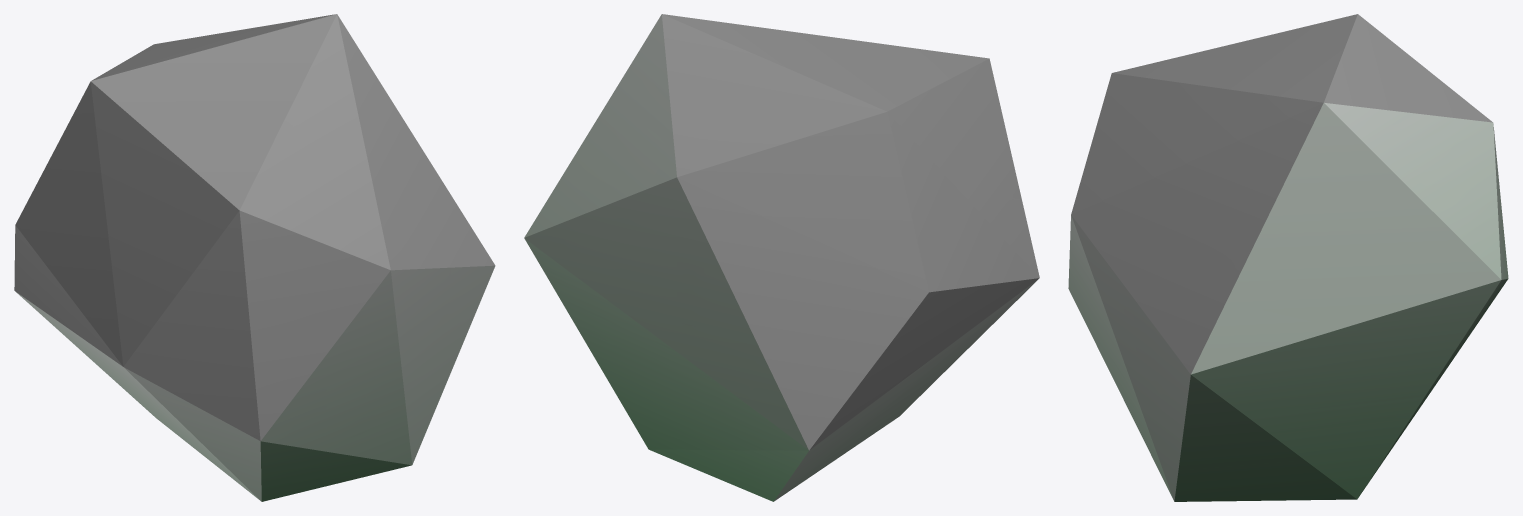
The model's file is rock_small_round_mossy.fbx.
3 views of the same model, side by side, from view 1: azimuth 30°, elevation 25°; view 2: azimuth 150°, elevation 25°; view 3: azimuth 270°, elevation 25° (orthographic). The views are drawn at different scales.
Parts seen in each view (by area): view 1: rock_small_round_mossy; view 2: rock_small_round_mossy; view 3: rock_small_round_mossy.
Boxes of the visible parts, <box> form: rock_small_round_mossy: <box>14,14,495,501</box>; rock_small_round_mossy: <box>524,14,1039,501</box>; rock_small_round_mossy: <box>1068,14,1508,501</box>.
Bounding box in the file's own units: 0.2996 × 0.3 × 0.3.
Materials: 1 (1 with a texture image).
